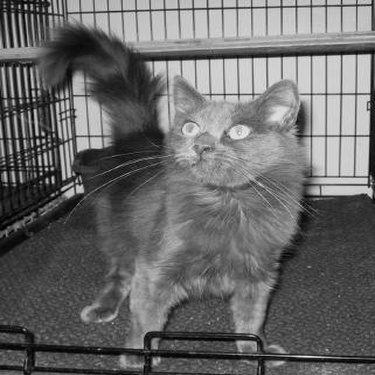cat: (43, 18, 308, 370)
